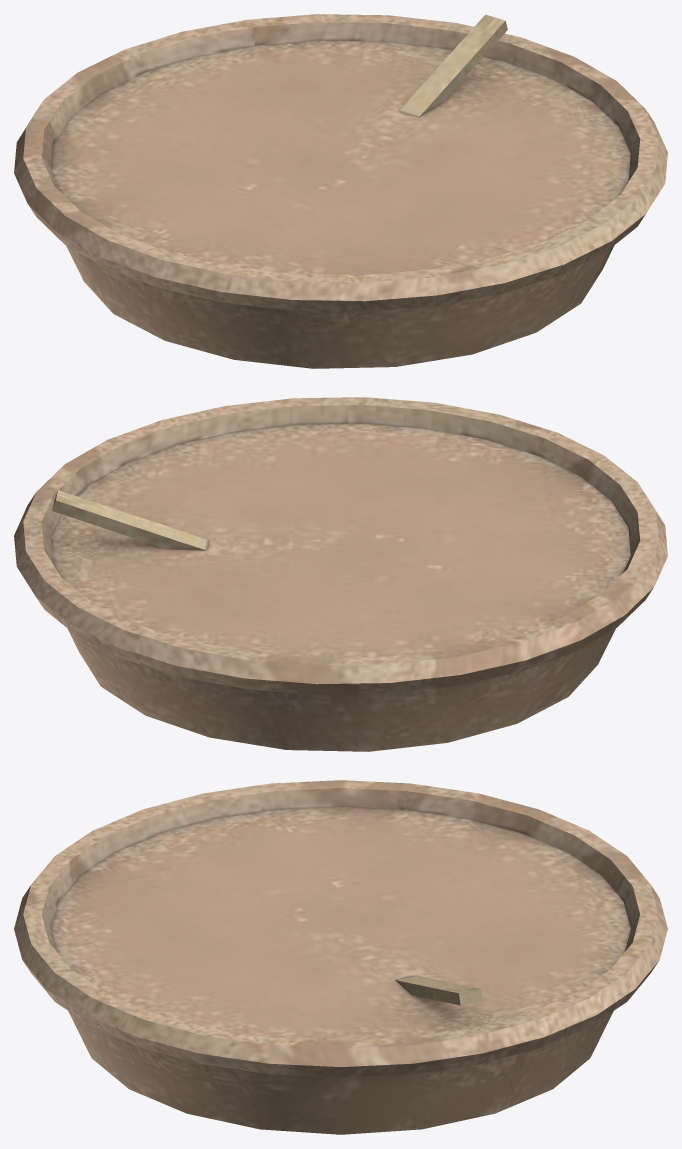
The model's file is prato_vazio.glb.
3 views of the same model, one above another, from view 1: azimuth 30°, elevation 25°; view 2: azimuth 150°, elevation 25°; view 3: azimuth 270°, elevation 25° (orthographic).
Parts seen in each view (by area): view 1: prato_vazio; view 2: prato_vazio; view 3: prato_vazio.
Part boxes in pixels (box(x1,y1,x2,y2)): prato_vazio: box(14, 14, 667, 368); prato_vazio: box(14, 397, 667, 751); prato_vazio: box(14, 780, 667, 1134).
Bounding box in the file's own units: 0.212 × 0.0659 × 0.212.
1 material, 1 textured.
